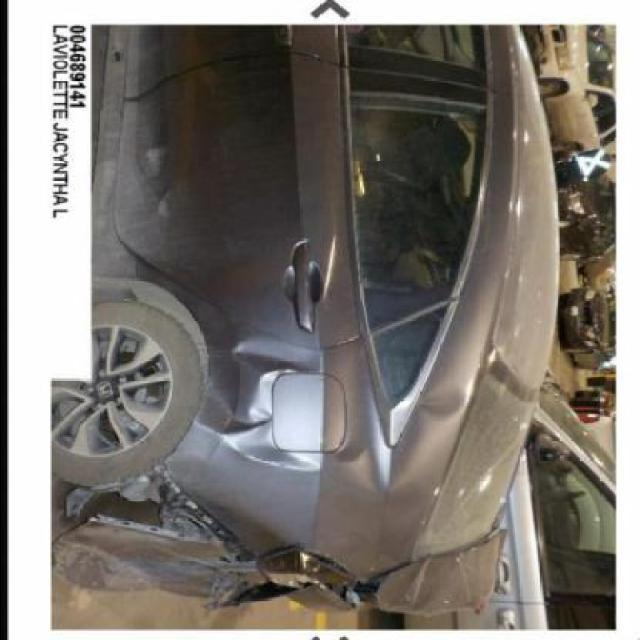quaterpanel-dent: (164, 328, 388, 546)
